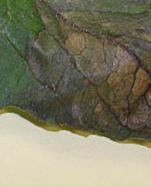Tomato leaf late blight: (0, 0, 151, 161)
